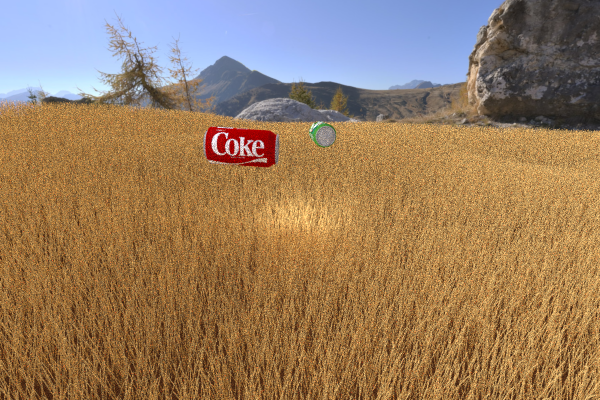Plastic Bottle: (421, 121, 551, 207), (203, 126, 279, 167), (308, 121, 336, 147)
